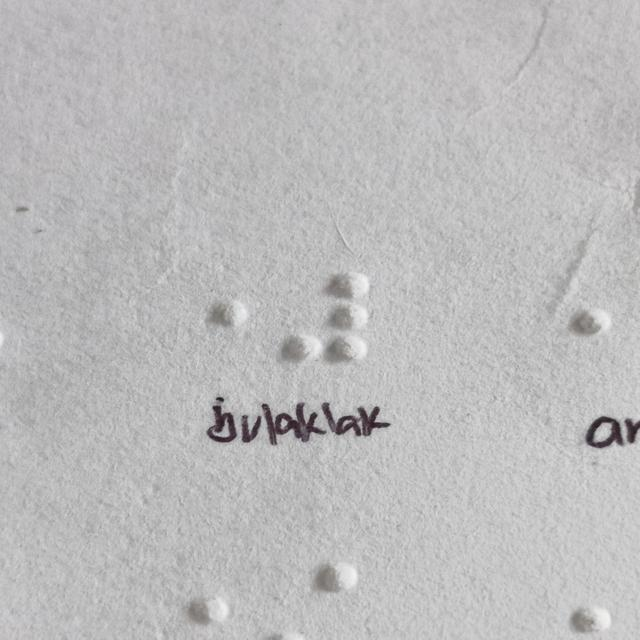bulaklak: (286, 273, 369, 365)
dot_5: (166, 274, 249, 366)
